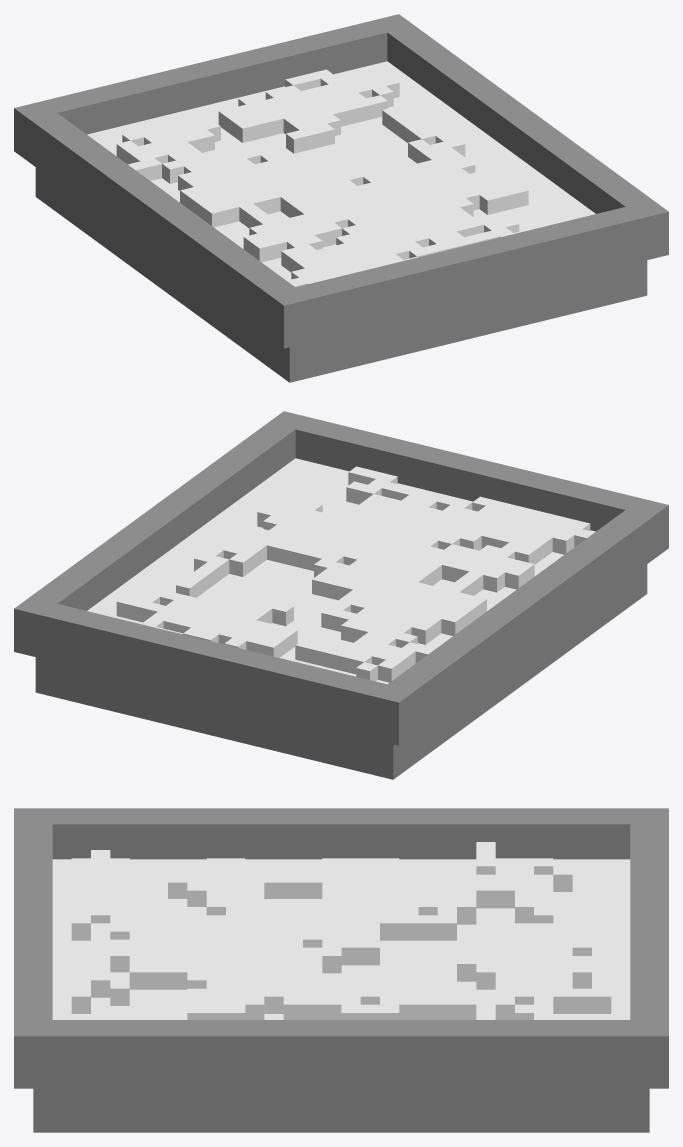
Rendered from kona1.fbx.
3 views of the same model, one above another, from view 1: azimuth 30°, elevation 25°; view 2: azimuth 150°, elevation 25°; view 3: azimuth 270°, elevation 25° (orthographic). The views are drawn at different scales.
Visible parts, largest first — view 1: ObjObject.001; view 2: ObjObject.001; view 3: ObjObject.001.
Boxes of the visible parts, x1,y1,x2,y2 form: ObjObject.001: [14, 14, 668, 382]; ObjObject.001: [14, 411, 668, 779]; ObjObject.001: [14, 808, 668, 1132].
Bounding box in the file's own units: 280 × 60 × 340.
1 material, 1 textured.
